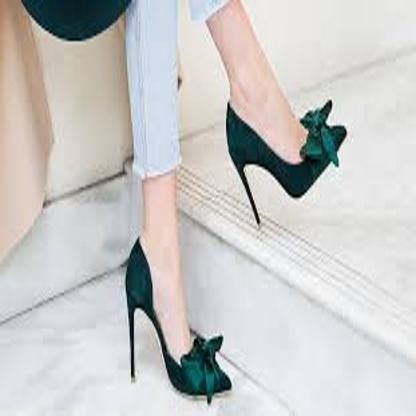not trash: (126, 237, 237, 396), (223, 98, 350, 228)
